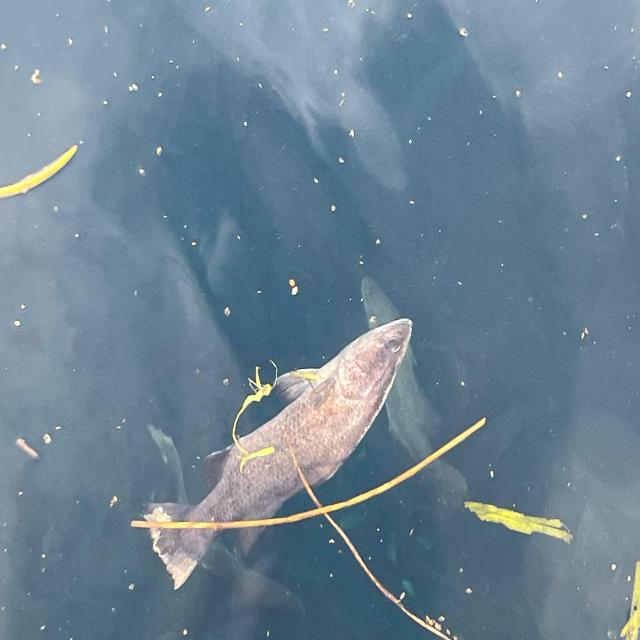ikan: (145, 278, 418, 590)
